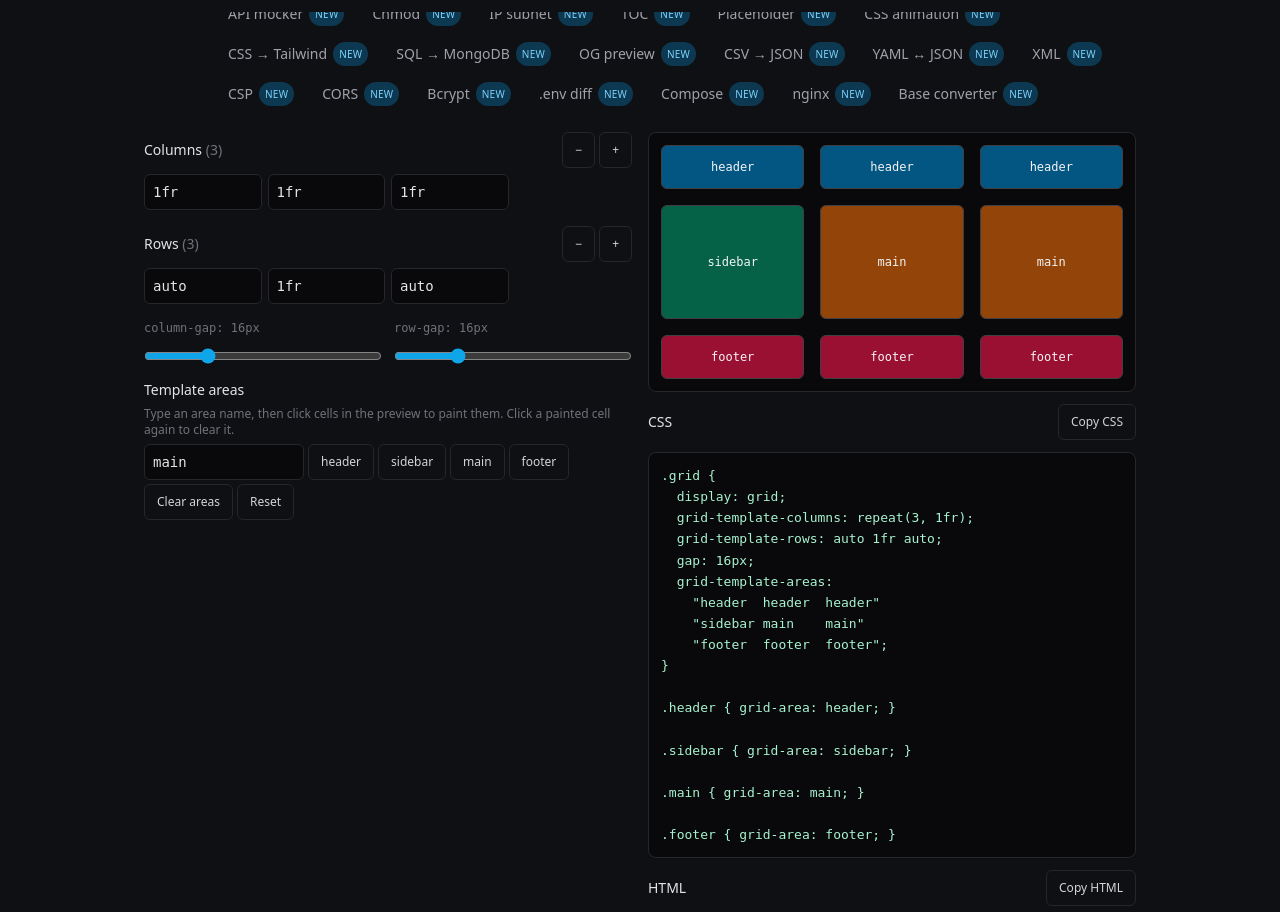
Test: GridPage › paints cells and warns about non-rectangular areas
(page scrolled)
Replace the text in the field with test id "grid-brush" with "header" at coordinates (224, 462), box [144,444,304,480]
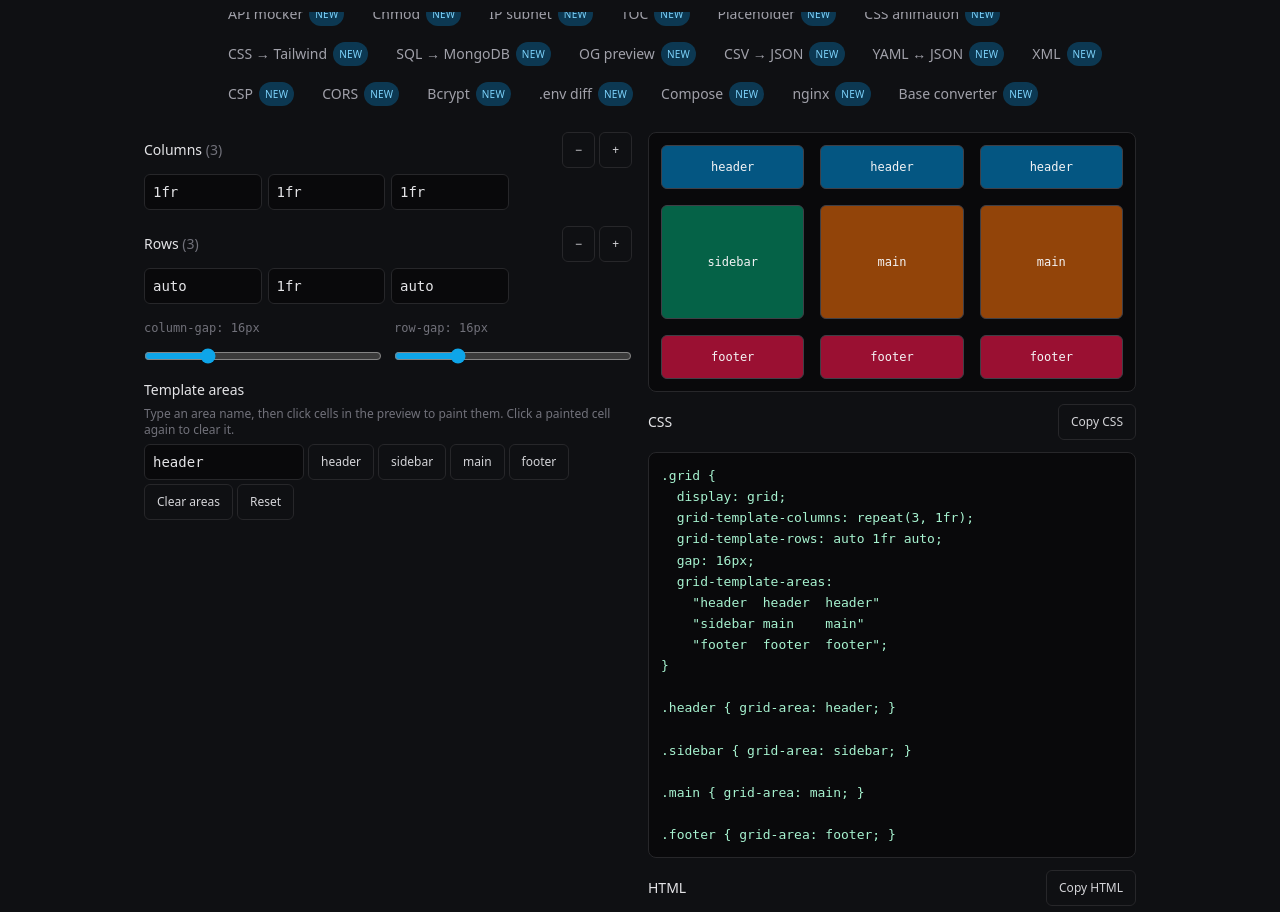
Click the button with test id "grid-cell-1-1".
click(892, 262)  # box [820,205,964,319]
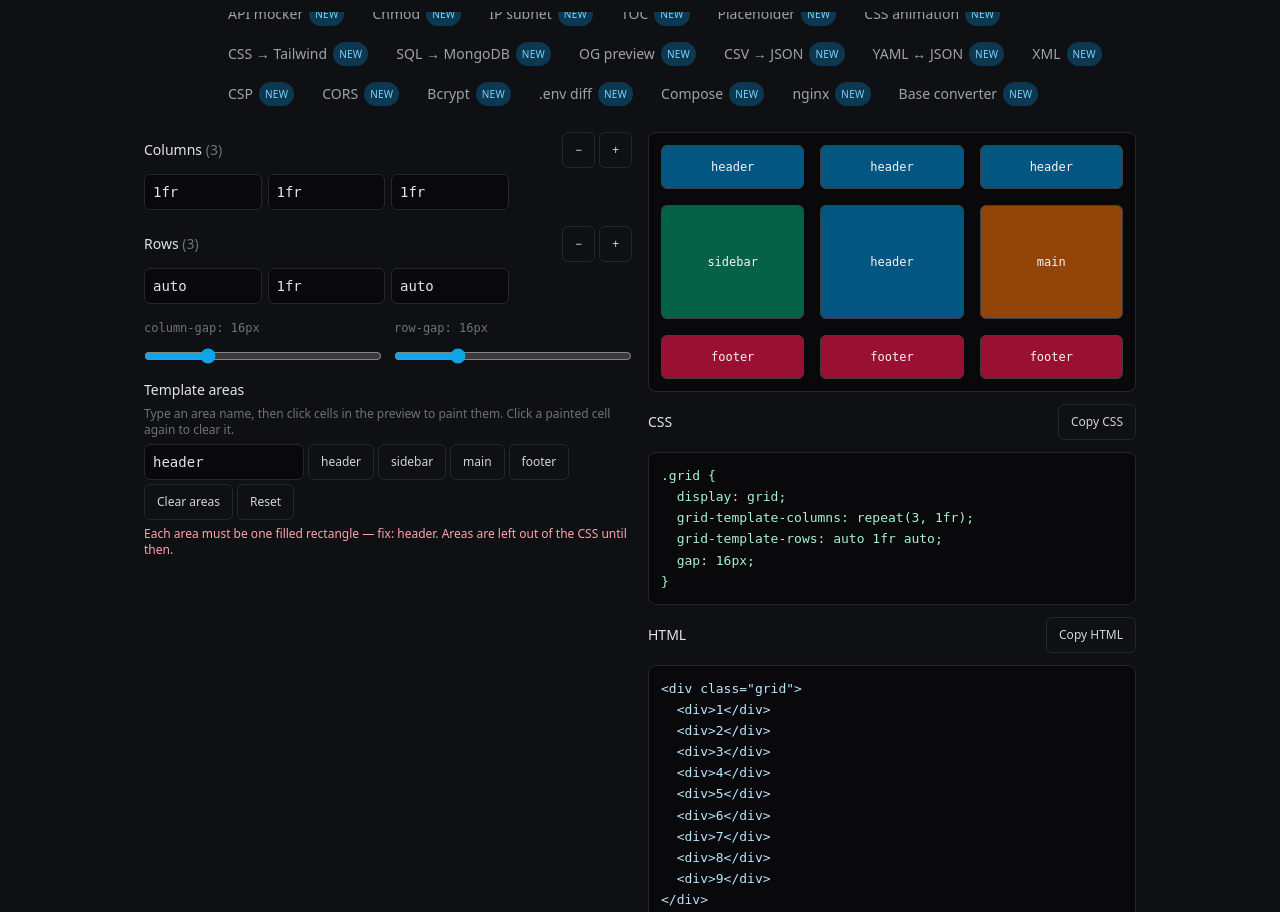
Expected: the message with test id "grid-area-error" shows "header", [397,525,435,542]
Expected: the text with test id "grid-css" no longer shows "grid-template-areas"
Click the button with test id "grid-clear-areas".
click(188, 502)  # box [144,484,233,520]
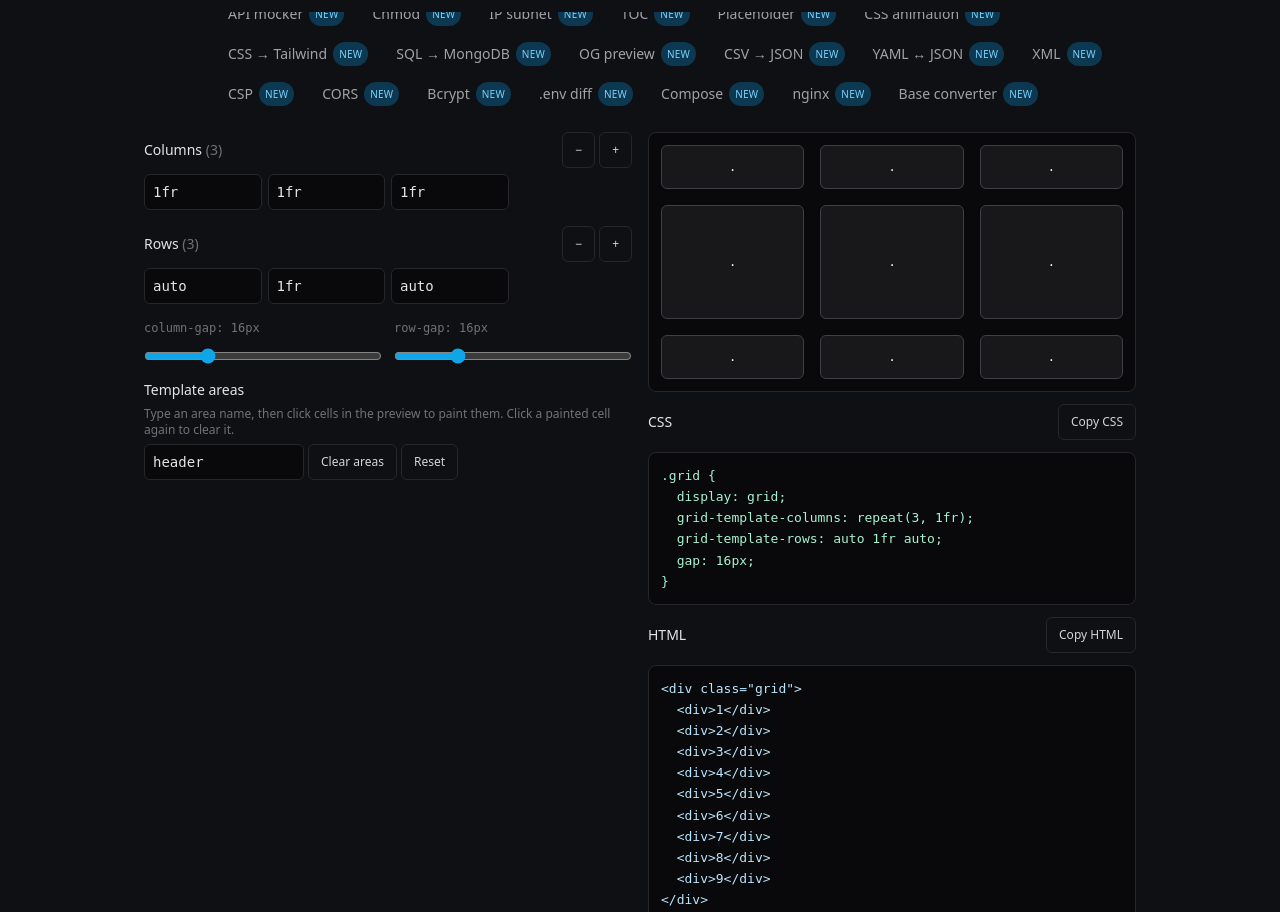
Expected: the message with test id "grid-area-error" is gone
